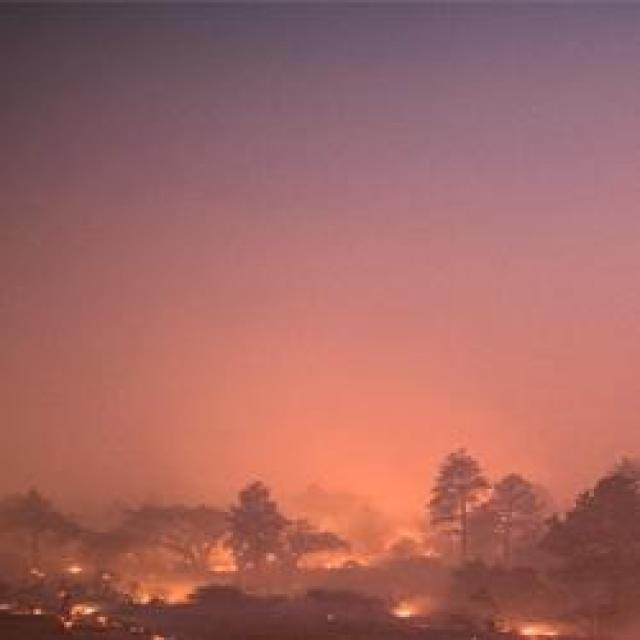Fire: (138, 583, 198, 607), (64, 597, 104, 626), (398, 599, 430, 623)
